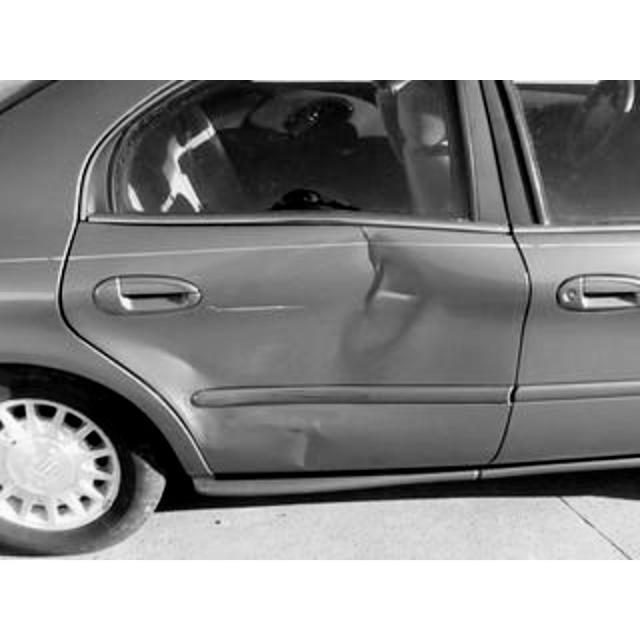doorouter-dent: (80, 100, 498, 484)
